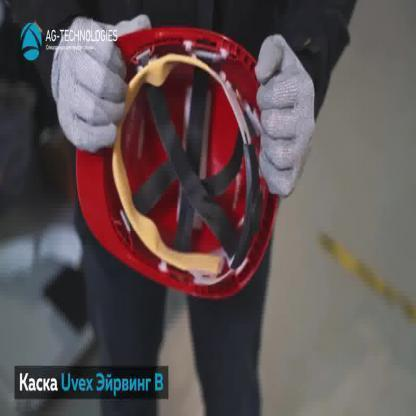gloves: (50, 16, 152, 158), (249, 32, 318, 202)
helmet: (74, 24, 282, 302)
